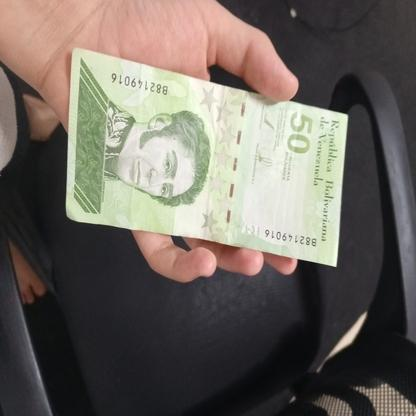fifty-front-vef: (66, 46, 348, 268)
